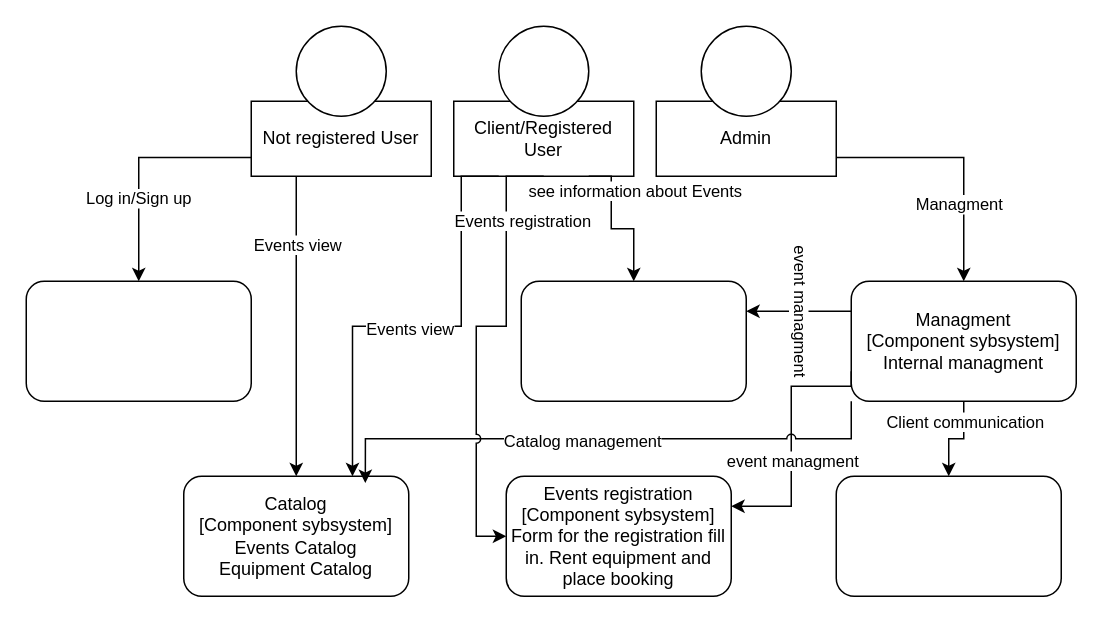
The diagram is 1103 pixels wide and 623 high, and some of its shapes have lost their labels. Here are the shapes that lost their labels. From the top down, the box of each, then its label:
(25, 280, 251, 401): Web-Site [Component sybsystem] Log in/Sign up
(520, 280, 746, 401): Events [Component sybsystem] Information and dates of events
(835, 475, 1061, 596): Client [Component sybsystem] Client support/managment
